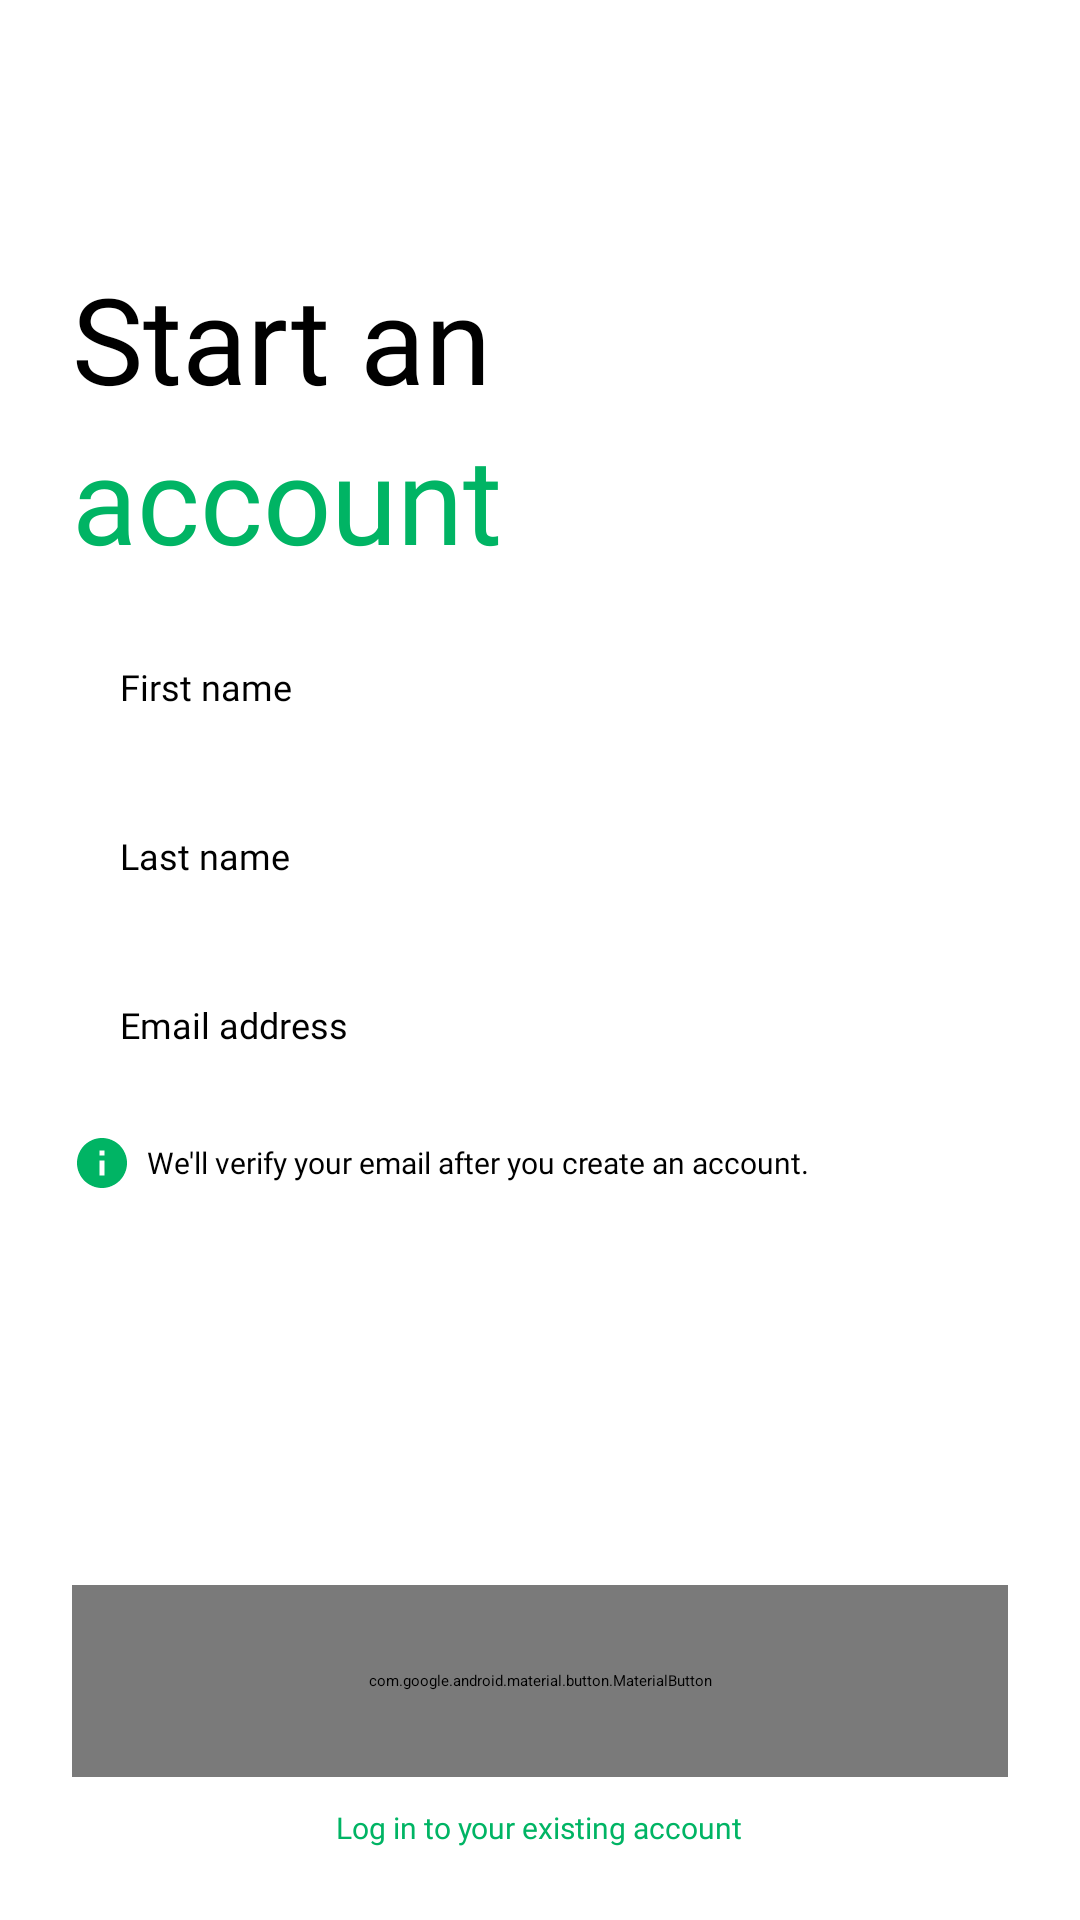

Icons on this 1080px x 1920px Android screen, each with the point to tap as point (x, y):
info: point (102, 1163)
